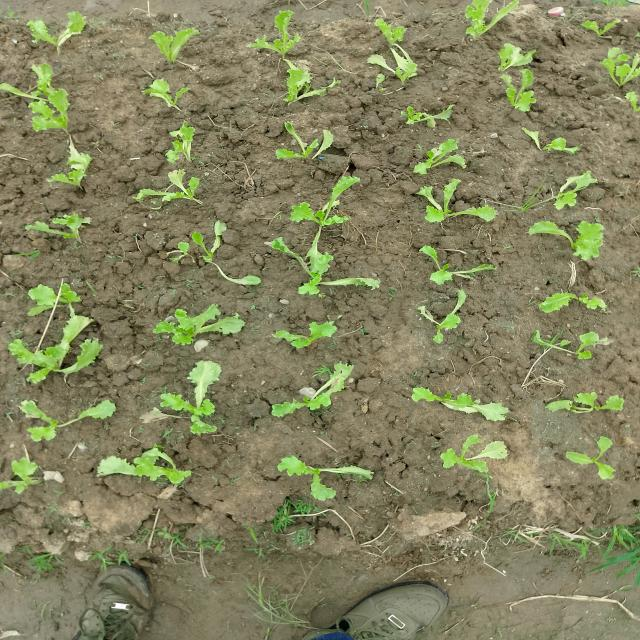Lettuce: (8, 314, 110, 388), (152, 358, 238, 441), (166, 218, 270, 286), (0, 63, 89, 136), (268, 362, 368, 422), (405, 376, 519, 423), (160, 299, 252, 355), (265, 455, 376, 498), (528, 213, 611, 270), (434, 431, 518, 486), (7, 398, 112, 440), (367, 18, 427, 84), (413, 240, 502, 284), (414, 284, 475, 346), (534, 276, 614, 322), (448, 0, 523, 48), (284, 244, 346, 302), (128, 454, 202, 502), (261, 118, 338, 164), (414, 176, 480, 228), (34, 148, 112, 192), (286, 191, 354, 241), (132, 167, 211, 210), (566, 432, 625, 489), (1, 451, 55, 513), (235, 10, 304, 58), (22, 4, 88, 50), (272, 314, 344, 356), (411, 134, 478, 178), (23, 209, 95, 248), (137, 75, 207, 115), (146, 22, 205, 69), (276, 64, 343, 104), (518, 118, 584, 156), (564, 386, 628, 424), (490, 72, 552, 110), (551, 168, 606, 210), (597, 47, 640, 100), (30, 284, 92, 318), (391, 100, 468, 126), (484, 40, 542, 74), (164, 122, 208, 164), (569, 328, 615, 367), (577, 16, 640, 42)
